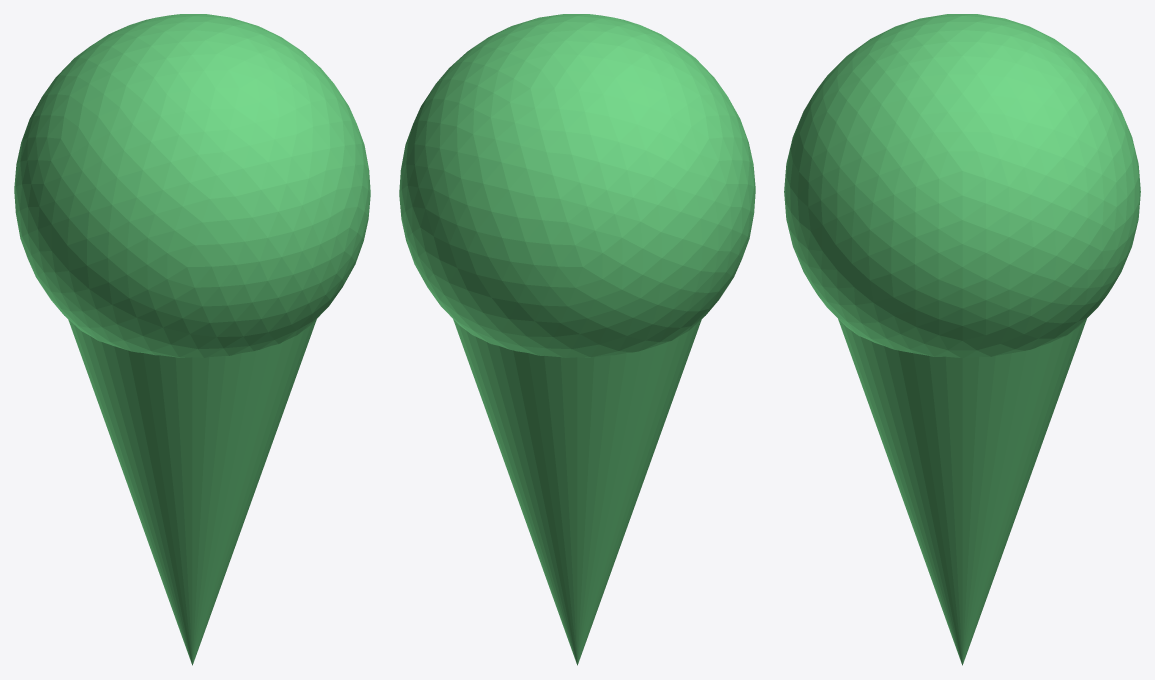
Rendered from marker_low.glb.
3 renders of one model, left to right at view 1: azimuth 30°, elevation 25°; view 2: azimuth 150°, elevation 25°; view 3: azimuth 270°, elevation 25°, orthographic.
Visible parts, largest first — view 1: world; view 2: world; view 3: world.
Boxes of the visible parts, x1,y1,x2,y2 form: world: (14,14,370,665); world: (399,14,755,665); world: (784,14,1140,665).
Bounding box in the file's own units: 0.12 × 0.236 × 0.12.
